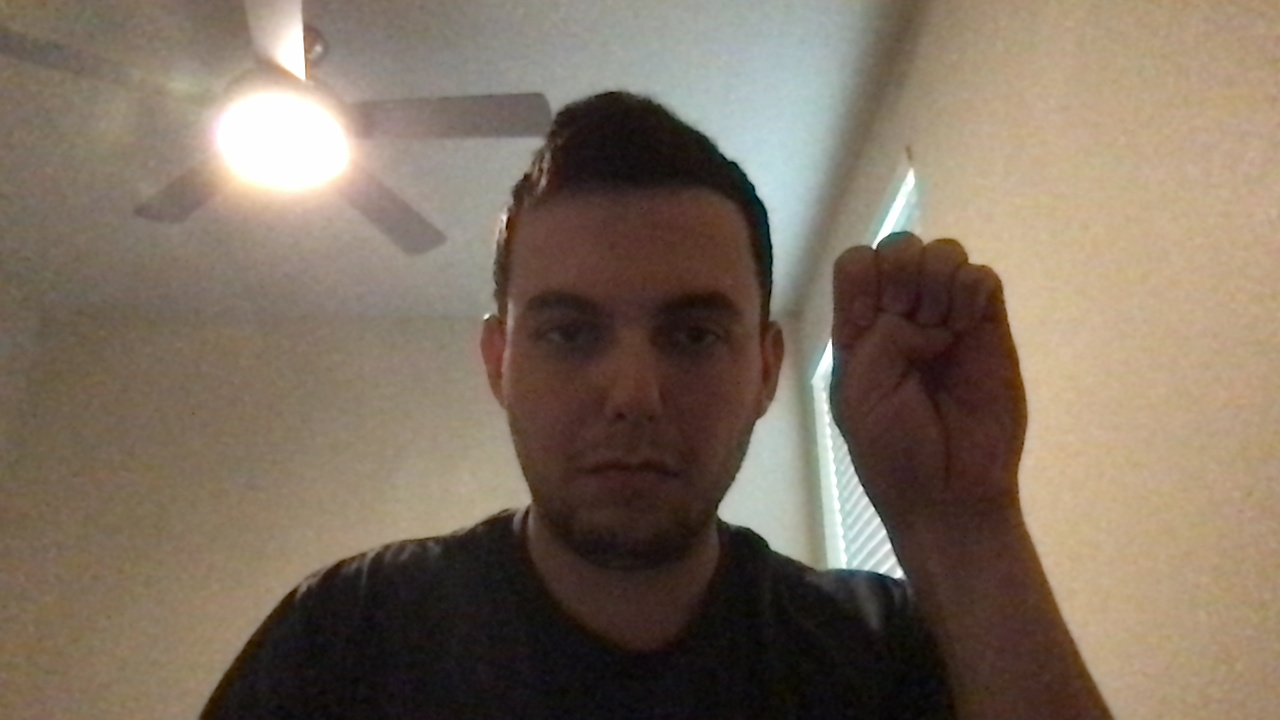e: (811, 235, 1060, 520)
